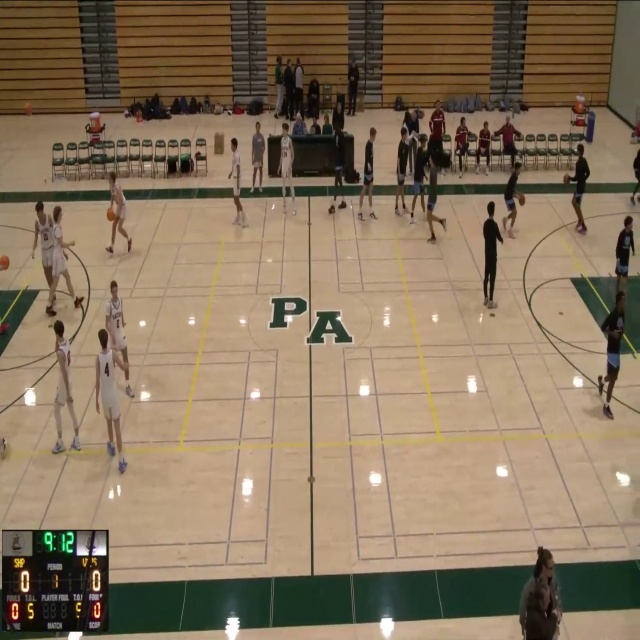Basketball: (0, 255, 10, 270), (515, 193, 525, 206), (0, 323, 10, 334), (107, 208, 115, 221), (25, 103, 32, 115), (563, 174, 569, 184)
